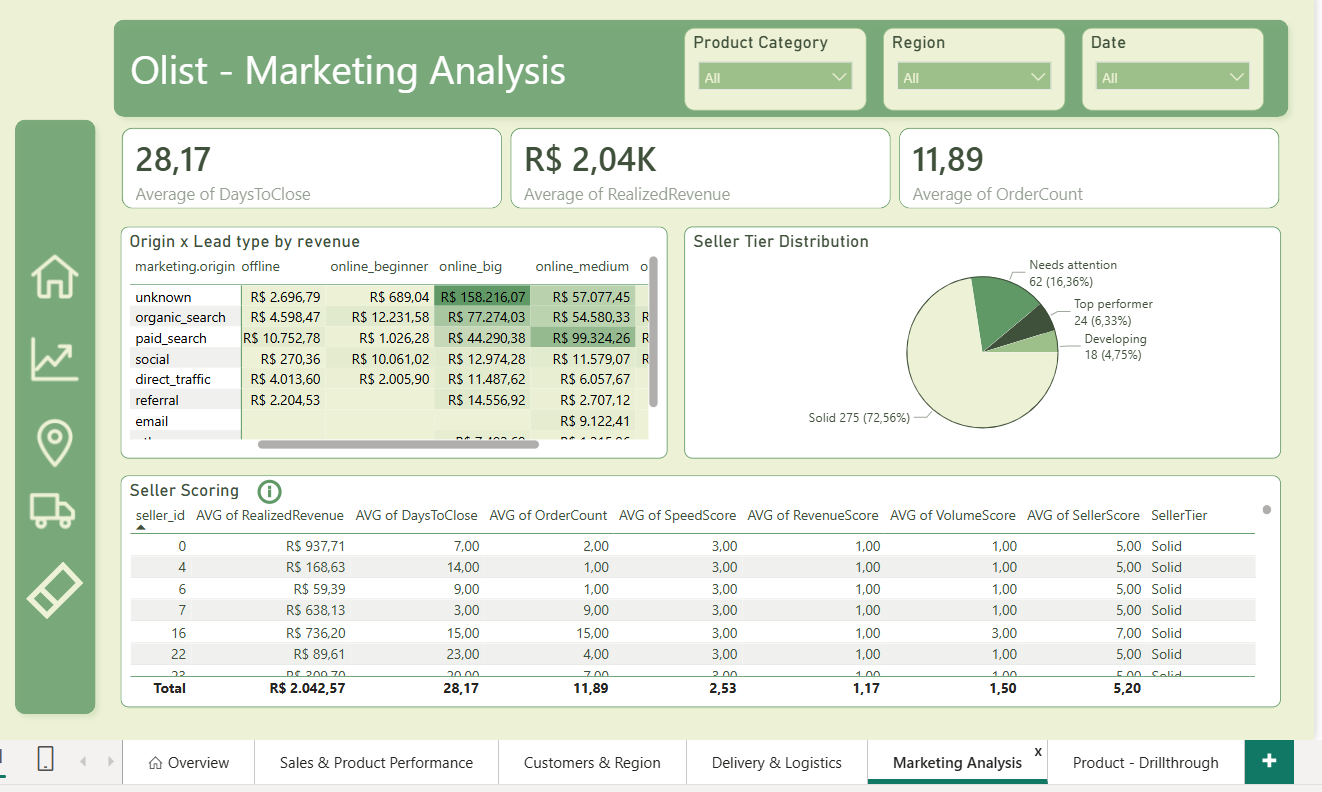

This screenshot's page, from the dashboard's own definition file:
{"tool":"powerbi","page":{"name":"Marketing Analysis","canvas":[1280,720],"ordinal":4},"visuals":[{"type":"shape","box":[16.3,112,96,592],"z":0,"group":"g1"},{"type":"tableEx","title":"Seller Scoring","fields":{"Values":["olist_sellers3.seller_id","Avg(olist_sellers3.RealizedRevenue)","Avg(olist_sellers3.DaysToClose)","Avg(olist_sellers3.OrderCount)","Avg(olist_sellers3.SpeedScore)","Avg(olist_sellers3.RevenueScore)","Avg(olist_sellers3.VolumeScore)","Avg(olist_sellers3.SellerScore)","olist_sellers3.SellerTier"]},"box":[128,464,1120,224],"z":0},{"type":"shape","box":[112,16,1152,112],"z":1000},{"type":"actionButton","box":[32.3,240,64,64],"z":1000,"group":"g1"},{"type":"slicer","title":"Product Category","fields":{"Values":["olist_products4.product_category_name_english"]},"box":[672,32,176,80],"z":2000},{"type":"actionButton","box":[32.3,320,64,64],"z":2000,"group":"g1"},{"type":"slicer","title":"Region","fields":{"Values":["olist_customers2.customer region Hierarchy.customer region","olist_customers2.customer region Hierarchy.customer_city"]},"box":[864,32,176,80],"z":3000},{"type":"actionButton","box":[32.3,464,64,64],"z":3000,"group":"g1"},{"type":"group","id":"g1","title":"Group 1","box":[16.3,112,96,592],"z":4000},{"type":"actionButton","box":[32,400,64,64],"z":5000},{"type":"cardVisual","fields":{"Data":["Avg(olist_sellers3.DaysToClose)","Avg(olist_sellers3.RealizedRevenue)","Avg(olist_sellers3.OrderCount)"]},"box":[112,112,1152,112],"z":6000},{"type":"actionButton","box":[32,544,64,64],"z":7000},{"type":"slicer","title":"Date","fields":{"Values":["Calendar.Year Hierarchy.Year","Calendar.Year Hierarchy.Quarter","Calendar.Year Hierarchy.Month"]},"box":[1056,32,176,80],"z":8000},{"type":"pieChart","title":"Seller Tier Distribution","fields":{"Category":["olist_sellers3.SellerTier"],"Y":["CountNonNull(olist_sellers3.SellerScore)"]},"box":[672,224,576,224],"z":9000},{"type":"pivotTable","title":"Origin x Lead type by revenue","fields":{"Values":["MyMeasure.Revenue"],"Rows":["olist_sellers3.marketing.origin"],"Columns":["olist_sellers3.marketing.lead_type"]},"box":[128,224,528,224],"z":10000},{"type":"actionButton","box":[256,464,32,32],"z":11000}]}

Visuals, with their boxes on the page's 1280x720 design canvas (x1, y1, x2, y2). These are canvas units, not pixel positions in the 1322x792 screenshot, which may show the page scaled, cropped or inside an application window:
shape: rect(16, 112, 112, 704)
"Seller Scoring" tableEx: rect(128, 464, 1248, 688)
shape: rect(112, 16, 1264, 128)
actionButton: rect(32, 240, 96, 304)
"Product Category" slicer: rect(672, 32, 848, 112)
actionButton: rect(32, 320, 96, 384)
"Region" slicer: rect(864, 32, 1040, 112)
actionButton: rect(32, 464, 96, 528)
"Group 1" group: rect(16, 112, 112, 704)
actionButton: rect(32, 400, 96, 464)
cardVisual - Avg(olist_sellers3.DaysToClose) x Avg(olist_sellers3.RealizedRevenue): rect(112, 112, 1264, 224)
actionButton: rect(32, 544, 96, 608)
"Date" slicer: rect(1056, 32, 1232, 112)
"Seller Tier Distribution" pieChart: rect(672, 224, 1248, 448)
"Origin x Lead type by revenue" pivotTable: rect(128, 224, 656, 448)
actionButton: rect(256, 464, 288, 496)
